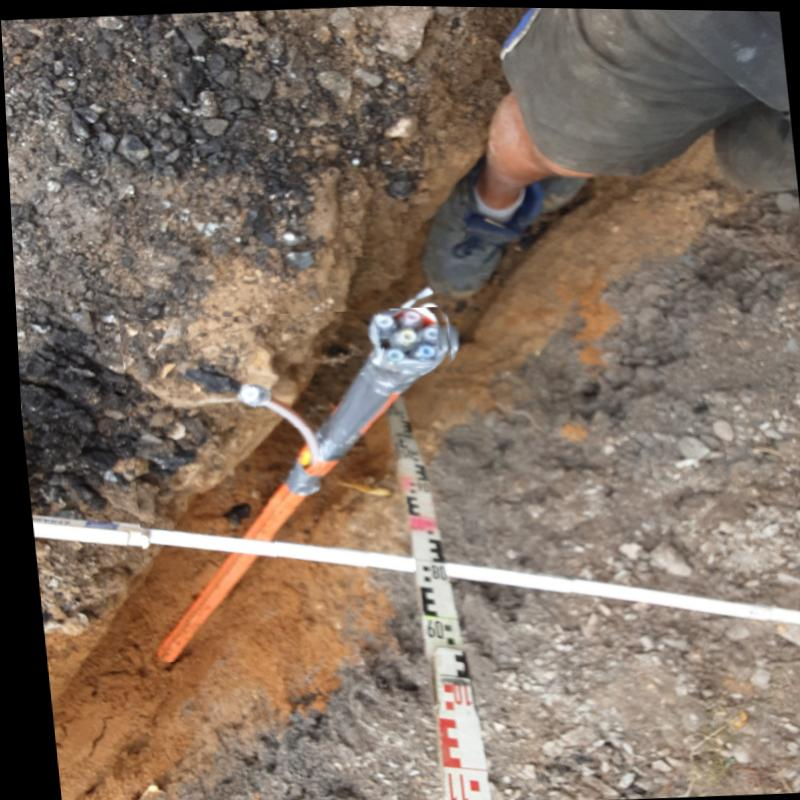Orang-Speednetrohrchen: (146, 306, 447, 662)
